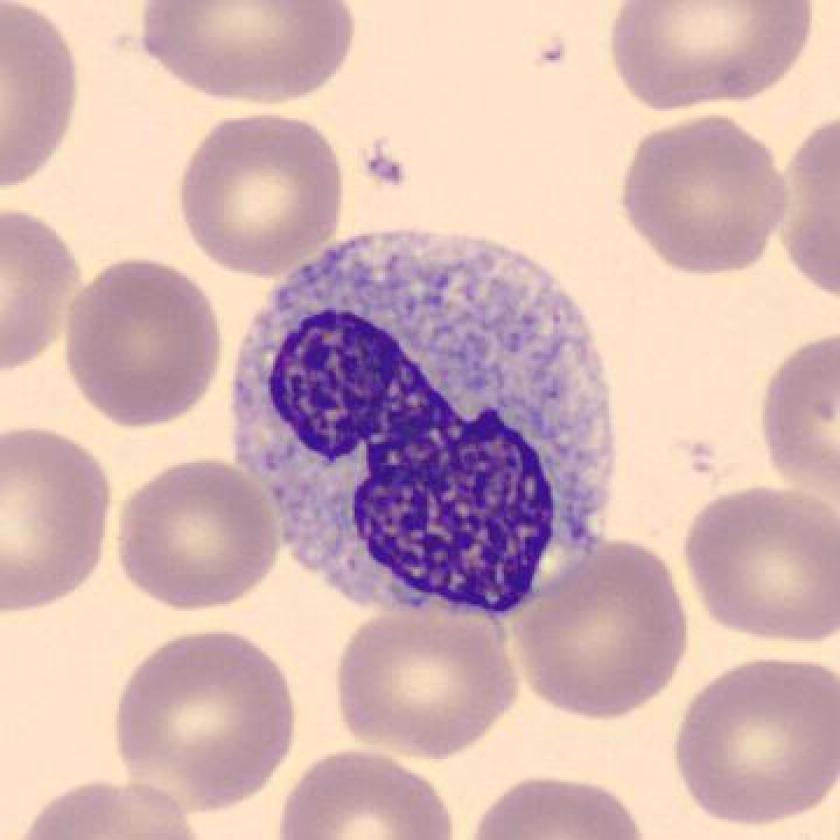monocyte: (211, 207, 645, 630)
